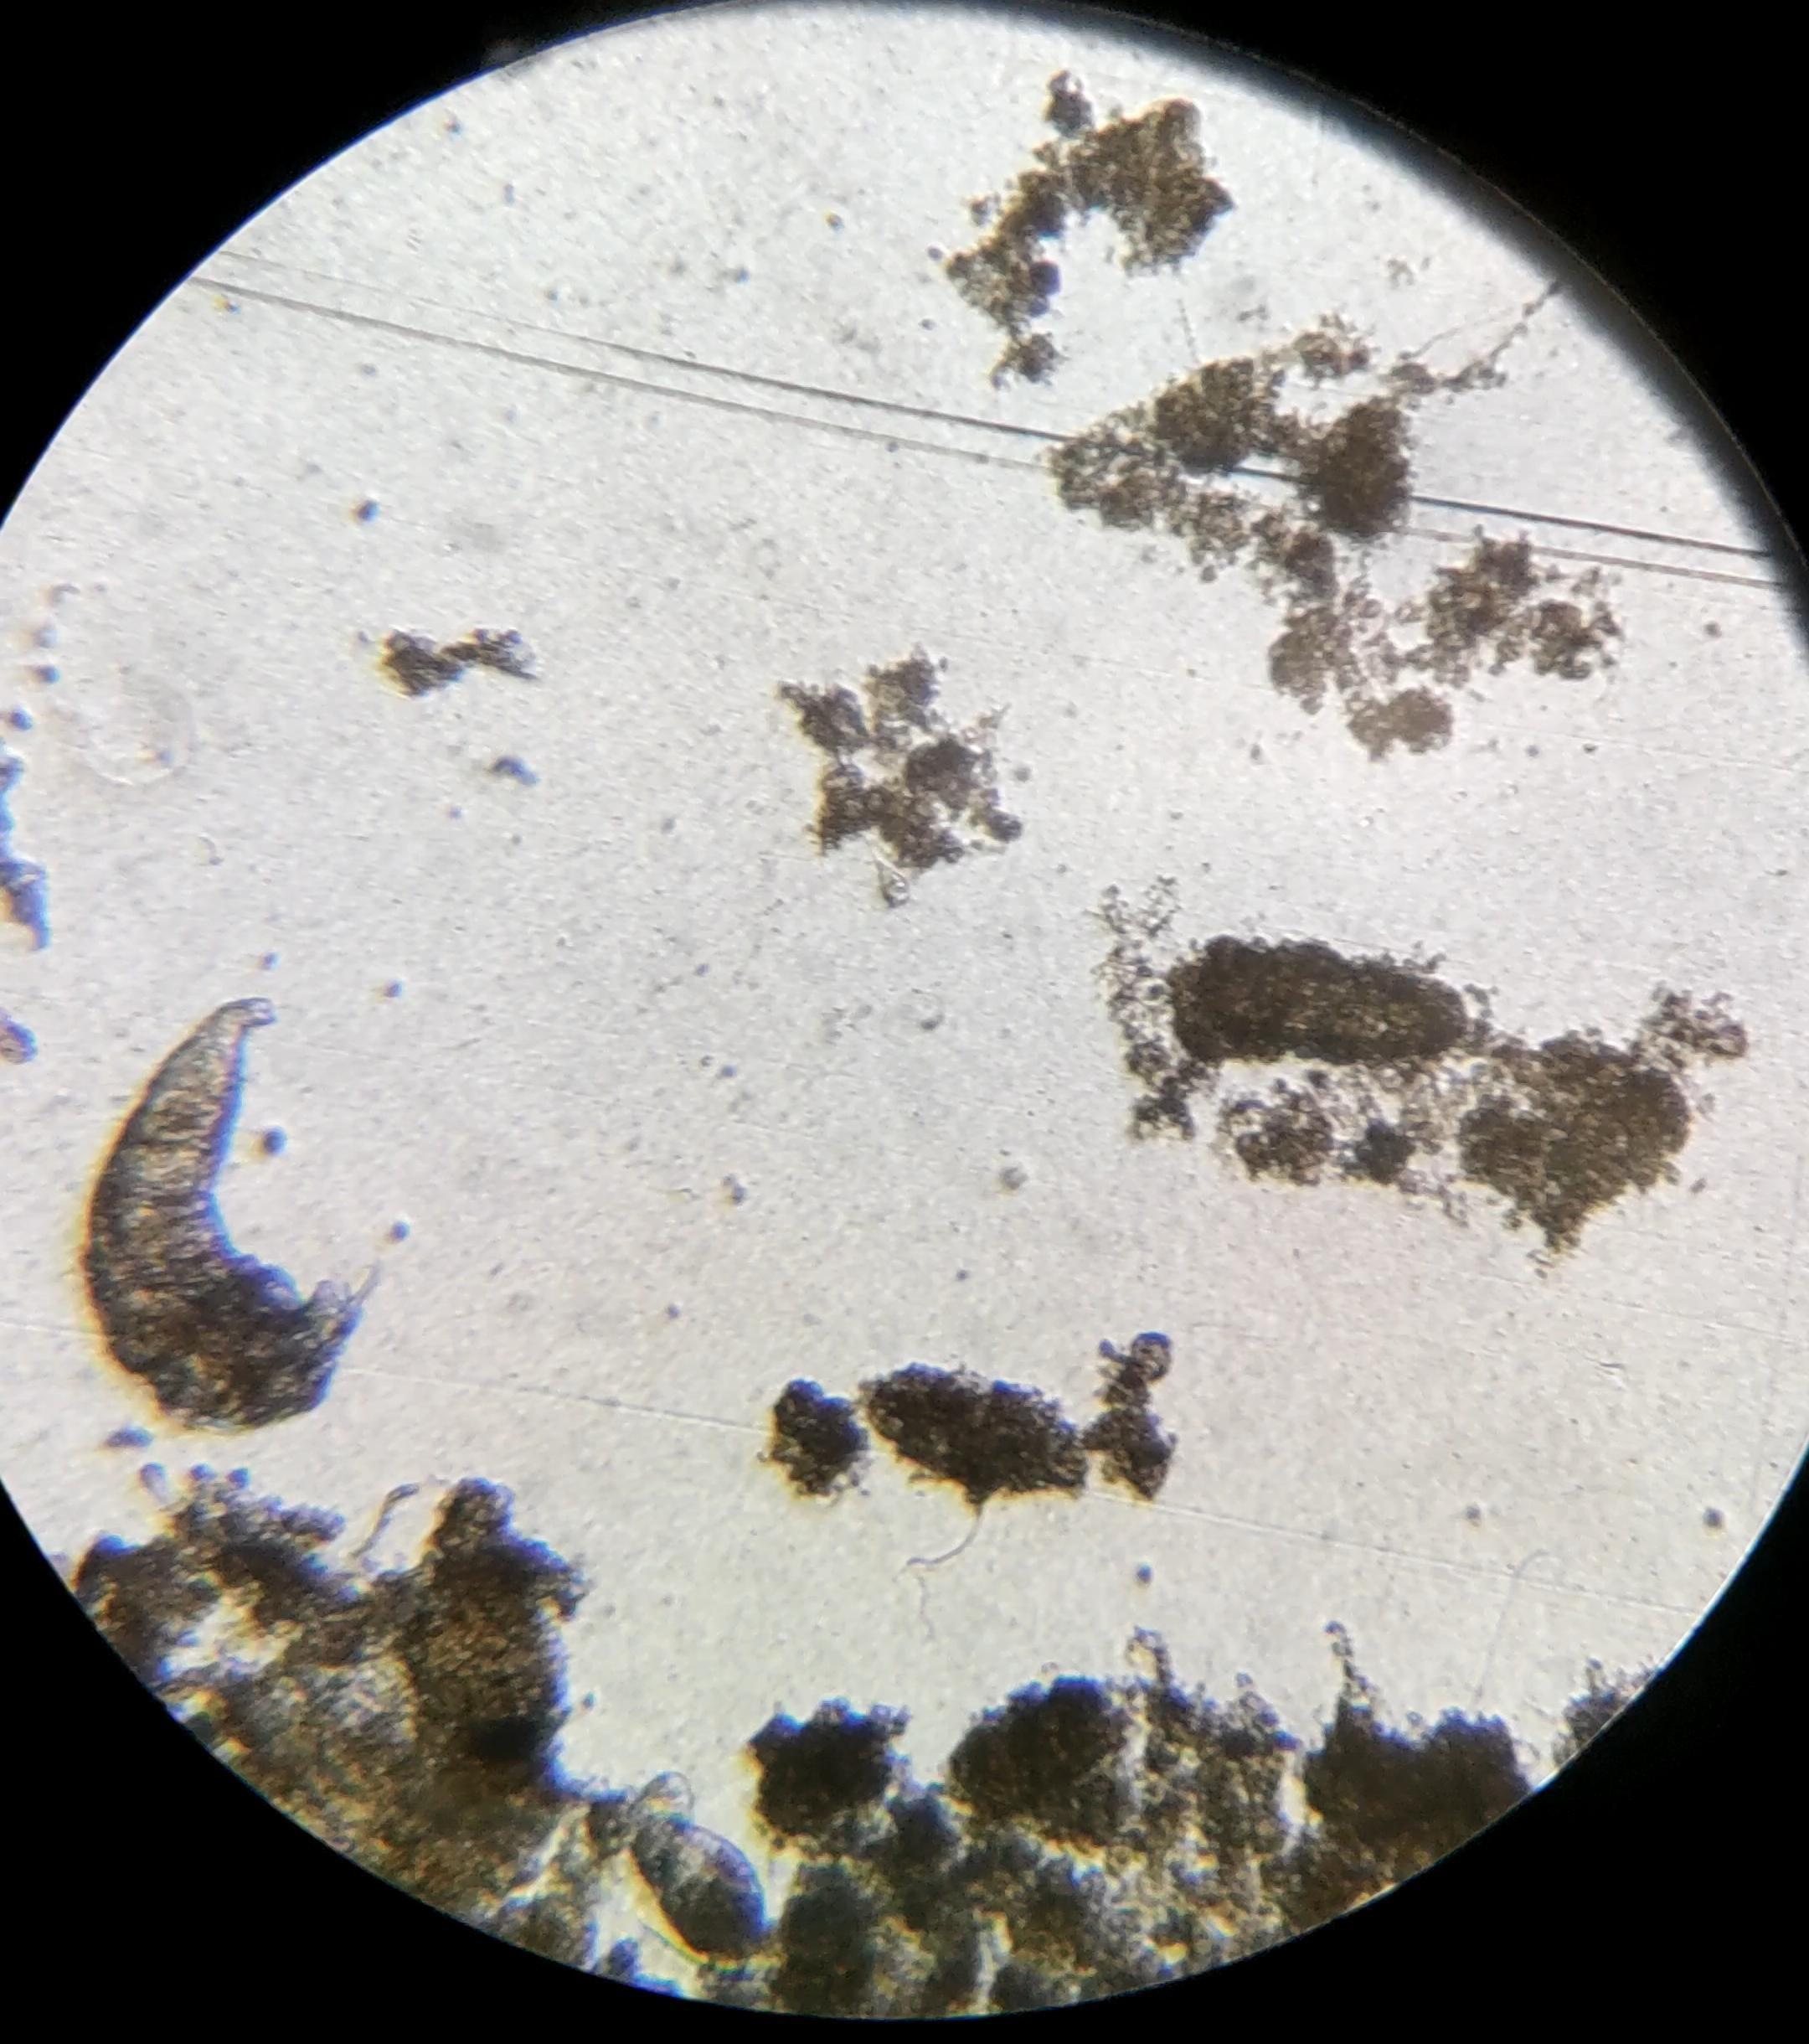Do: (89, 998, 377, 1429)
Mo: (632, 1819, 768, 1990)
